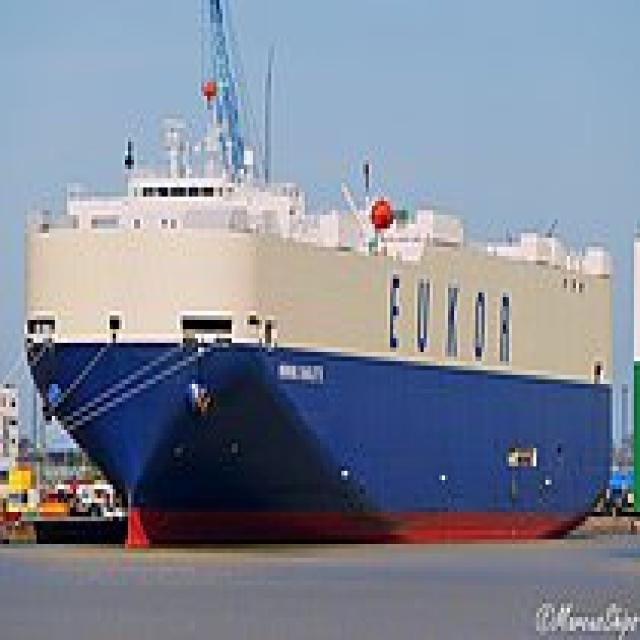Carrier: (18, 110, 613, 553)
